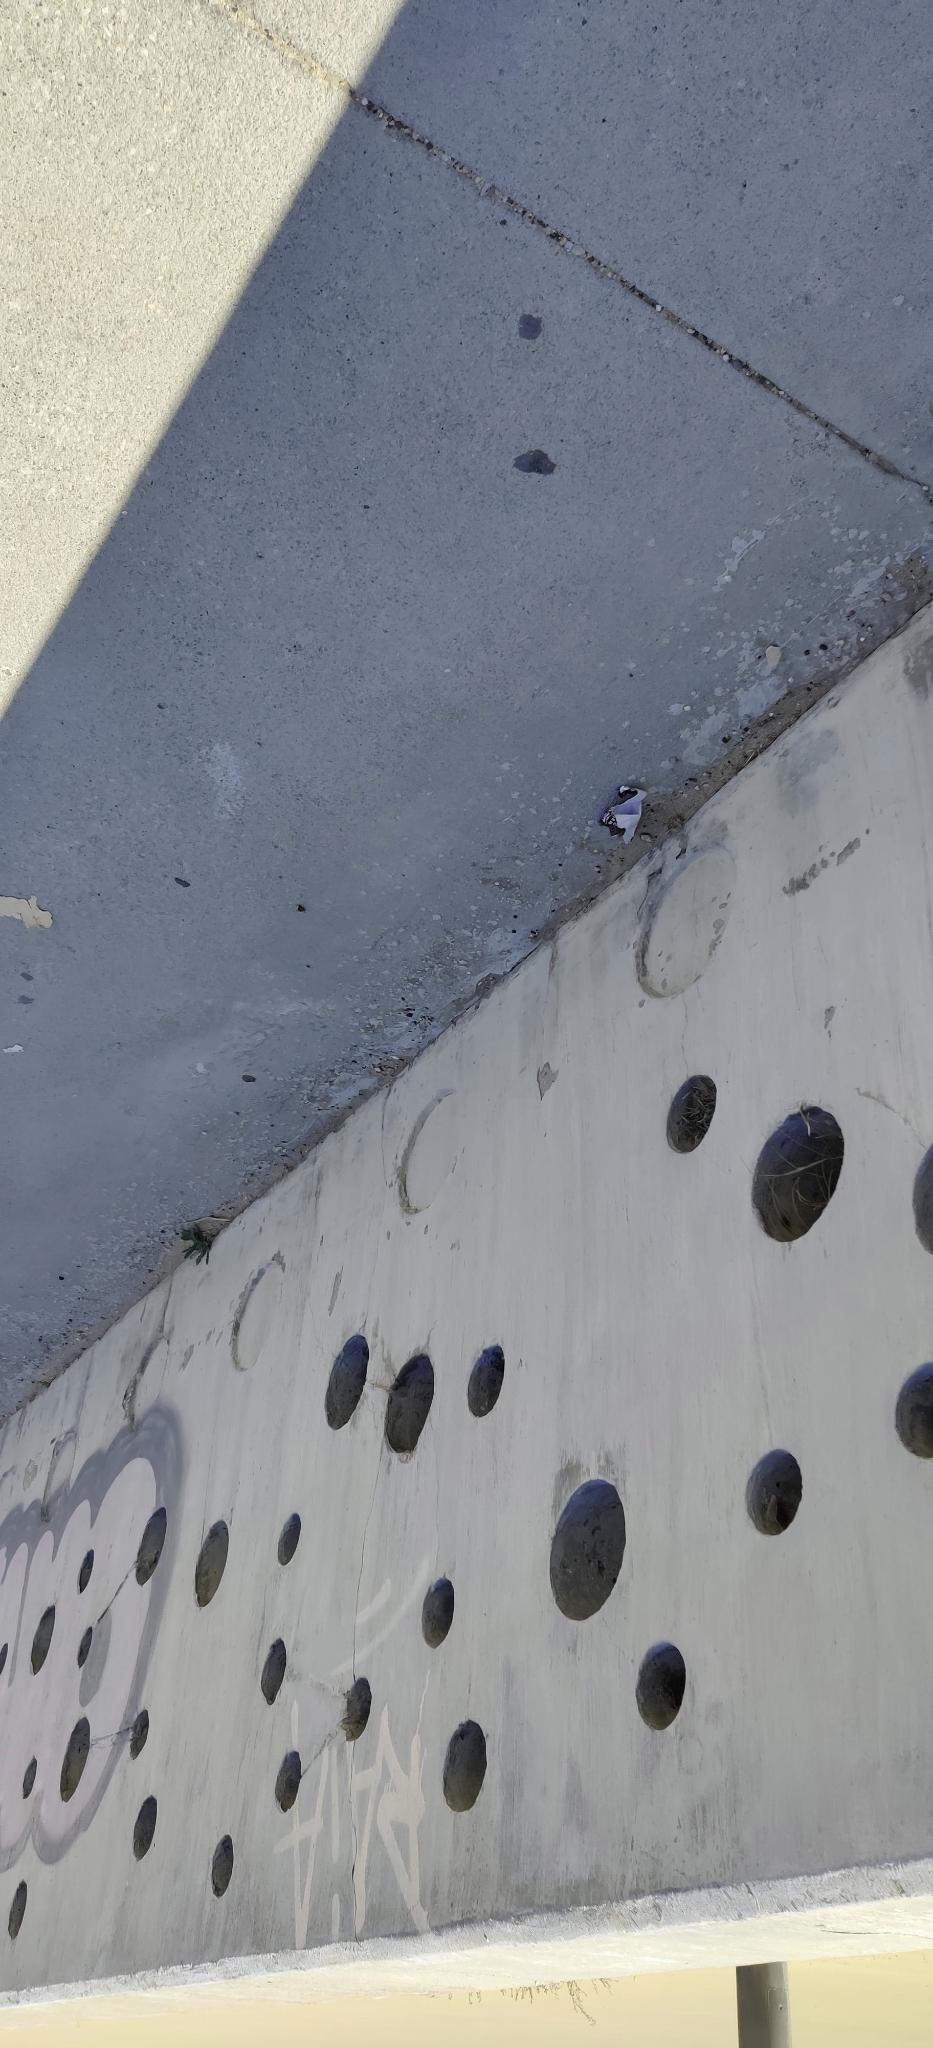Plastic: (593, 777, 649, 849)
